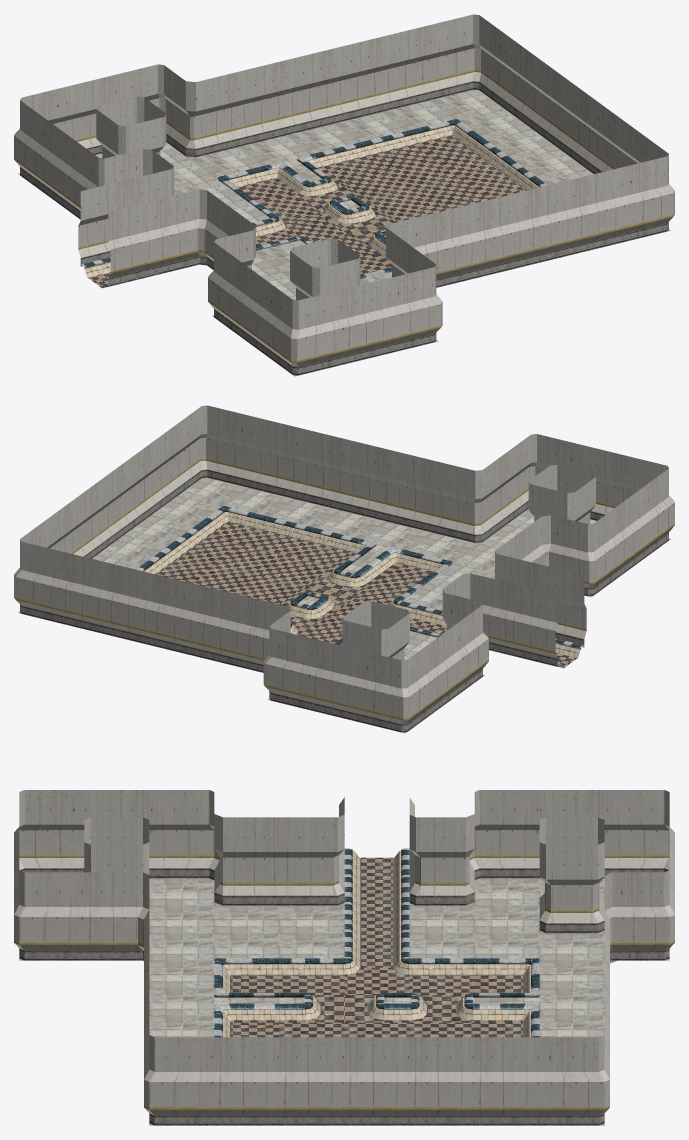
The model's file is perfectstormEnvironmentTest(1).glb.
3 views of the same model, one above another, from view 1: azimuth 30°, elevation 25°; view 2: azimuth 150°, elevation 25°; view 3: azimuth 270°, elevation 25° (orthographic). The views are drawn at different scales.
Parts seen in each view (by area): view 1: perfectStormTestEnv; view 2: perfectStormTestEnv; view 3: perfectStormTestEnv.
Boxes of the visible parts, x1,y1,x2,y2 form: perfectStormTestEnv: [14, 14, 674, 376]; perfectStormTestEnv: [14, 405, 674, 733]; perfectStormTestEnv: [14, 790, 674, 1125].
Size of the model in its own units: 20.16 by 3.26 by 20.33.
4 materials, 4 textured.
